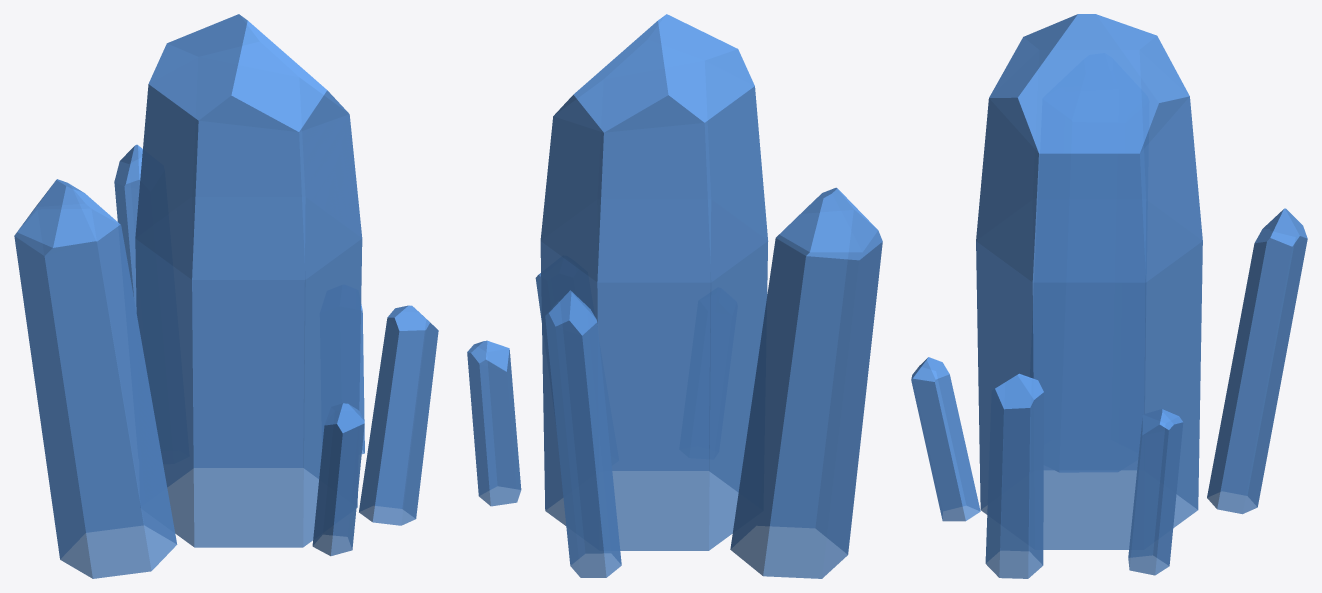
The model's file is Crystals_l_02 2.fbx.
3 views of the same model, side by side, from view 1: azimuth 30°, elevation 25°; view 2: azimuth 150°, elevation 25°; view 3: azimuth 270°, elevation 25° (orthographic).
Parts seen in each view (by area): view 1: Crystals_l_02; view 2: Crystals_l_02; view 3: Crystals_l_02.
Boxes of the visible parts, <box> form: Crystals_l_02: <box>14,14,438,578</box>; Crystals_l_02: <box>467,14,882,578</box>; Crystals_l_02: <box>911,14,1307,578</box>.
Size of the model in its own units: 300 by 397 by 280.
